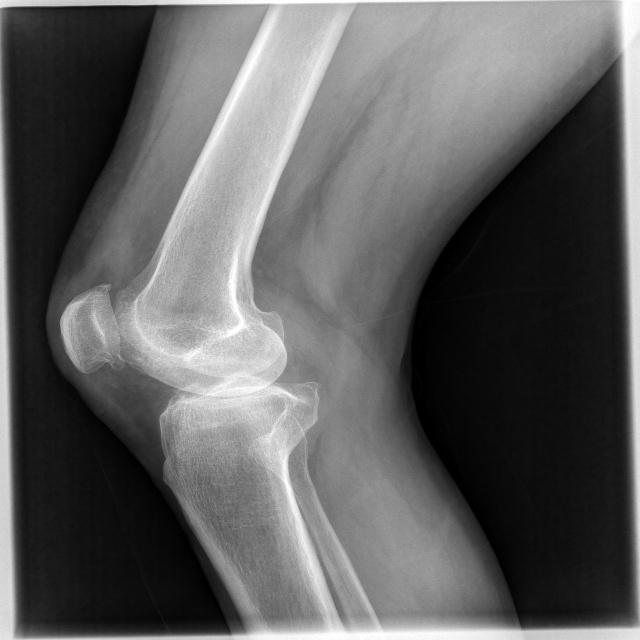Knee: (55, 279, 323, 461)
